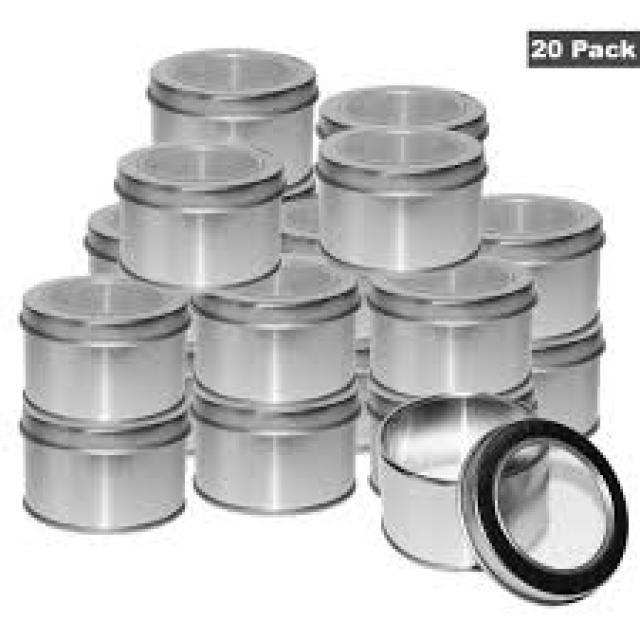recyclable: (462, 418, 630, 606), (382, 394, 550, 569), (142, 46, 319, 200), (15, 276, 193, 426), (192, 251, 364, 403), (114, 141, 288, 289), (318, 126, 488, 274), (368, 252, 540, 398), (20, 389, 191, 532), (194, 378, 360, 516), (481, 193, 605, 341), (316, 81, 490, 142), (530, 312, 609, 438)
